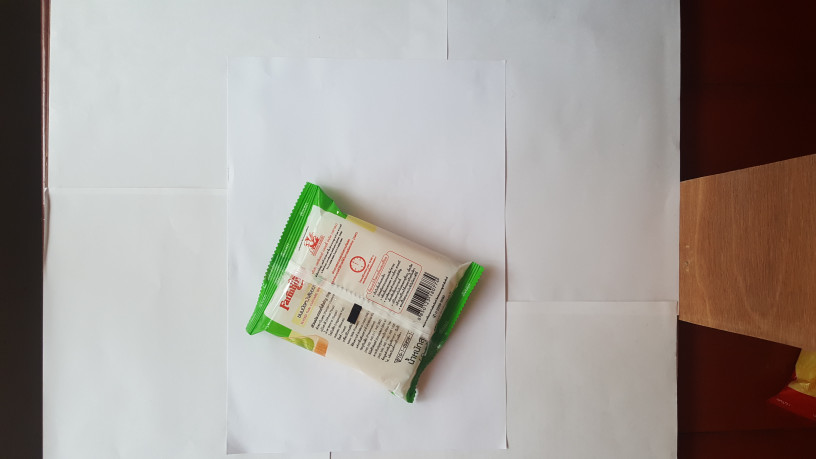farmhouse-bread-pandan: (251, 173, 487, 411)
